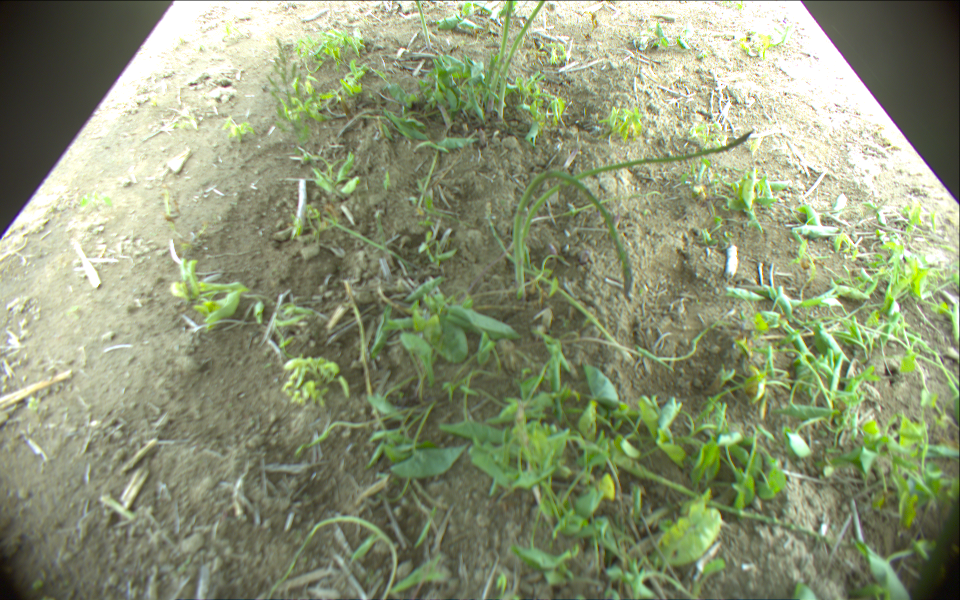aspa: (522, 129, 755, 268), (600, 445, 853, 547), (512, 172, 633, 302), (497, 1, 546, 118), (489, 1, 515, 106), (415, 1, 432, 51)
